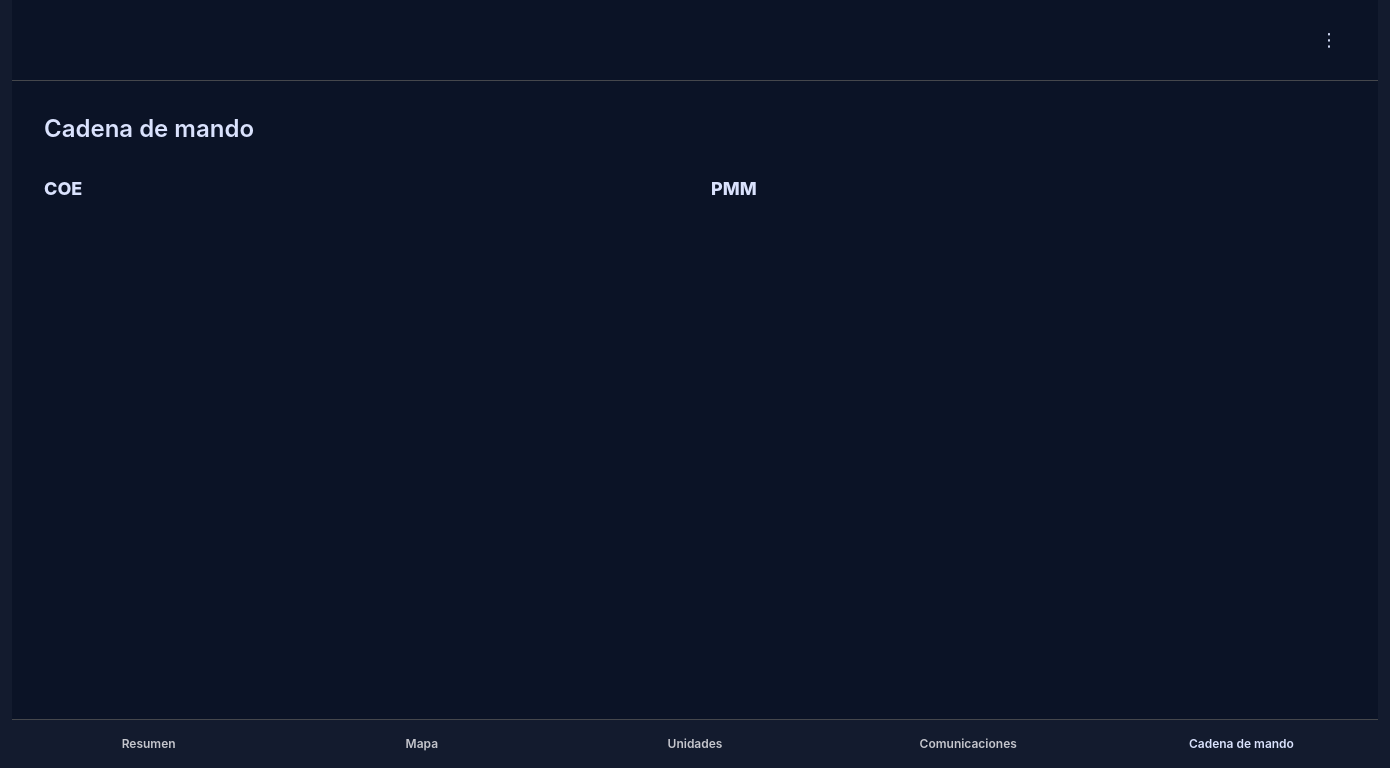
Test case: MenuAparte › navega a /pre-pai y esa ruta no aparece como tab principal
This screenshot has width=1390, height=768.
What coordinates should you click on to do the following:
click the button named "Más opciones"
I would click on:
 (1329, 40)
Its box is [1296,16,1362,64].
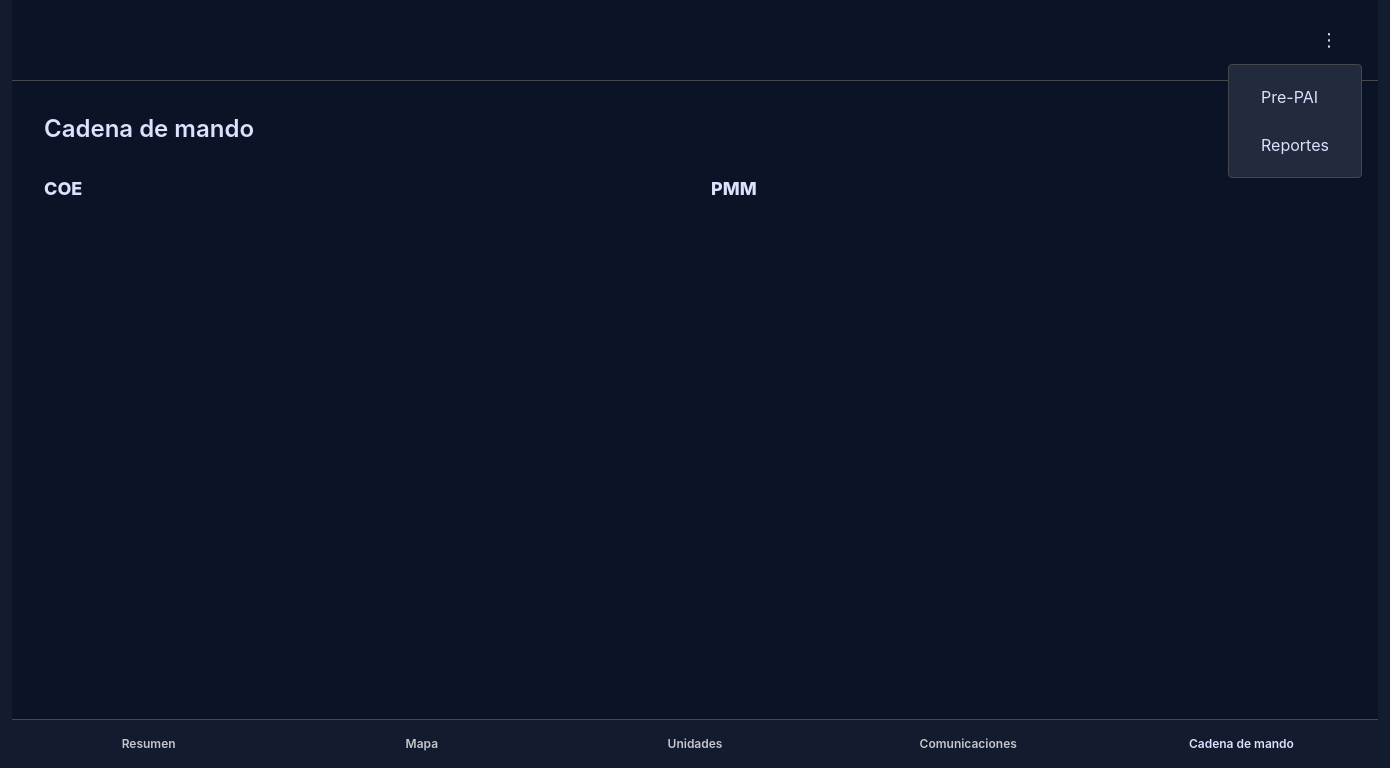
What coordinates should you click on to do the following:
click the menu item "Pre-PAI"
I would click on:
 (1290, 97)
Its box is [1261,87,1318,107].
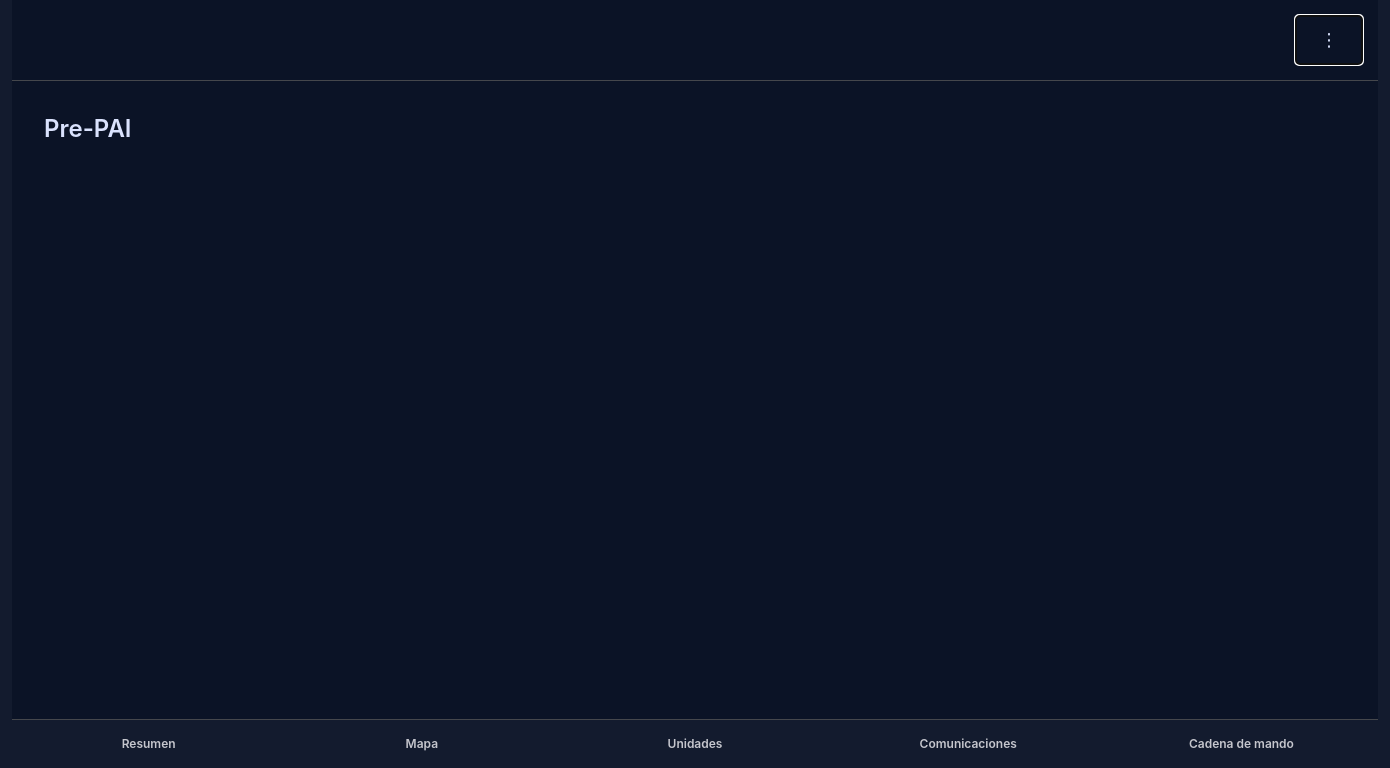
Expected: the heading "Pre-PAI" is shown, [44,114,132,143]
